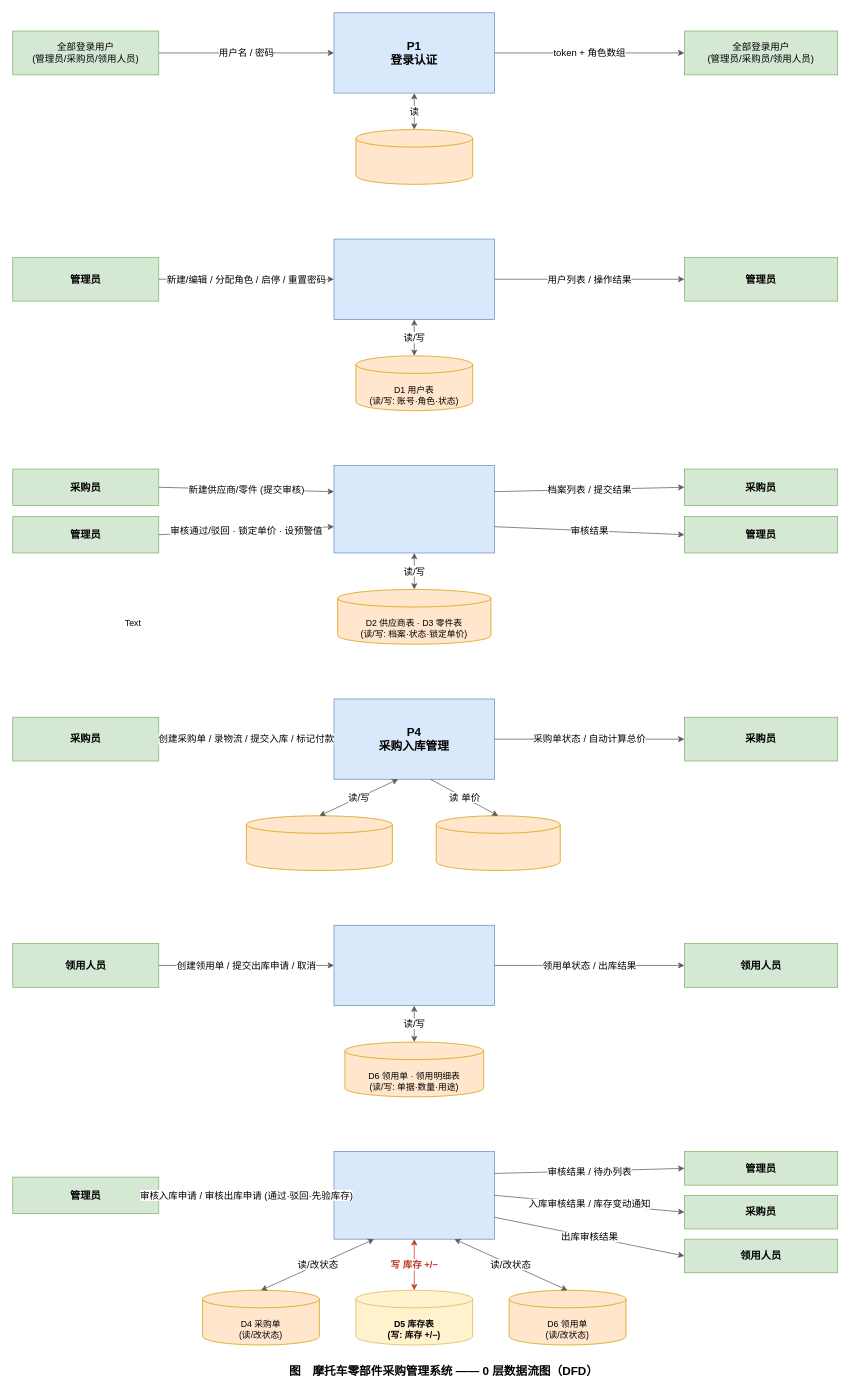
This 850x1394 diagram has some shape labels left out. The shapes that lost their labels are listed below. From the top down, each one's centre as x and y in pixels, then its label:
pixel 414 156: D1 用户表 (读: 校验账号密码)
pixel 414 278: P2 用户管理
pixel 414 509: P3 供应商 / 零件 档案管理
pixel 319 843: D4 采购单 · 订单明细表 (读/写: 单据·物流·总价·付款)
pixel 497 843: D3 零件表 (读: 锁定单价)
pixel 414 965: P5 领用出库管理
pixel 414 1195: P6 审核中心 (库存变动闸门)
